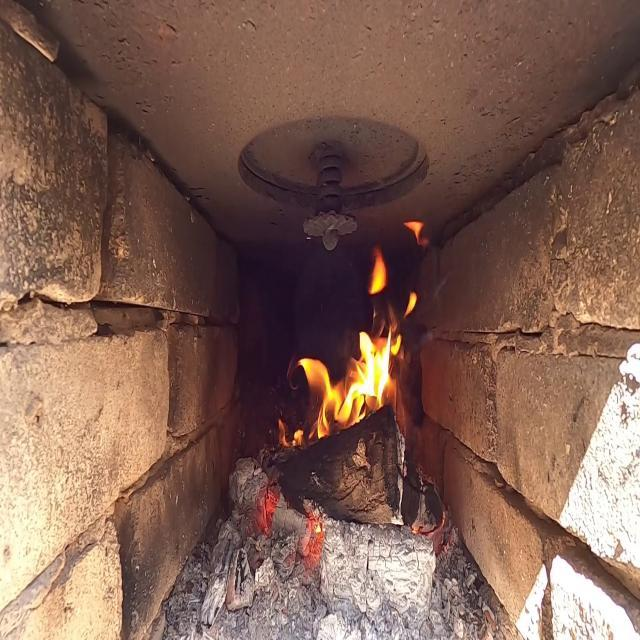Fire: (292, 334, 401, 432)
